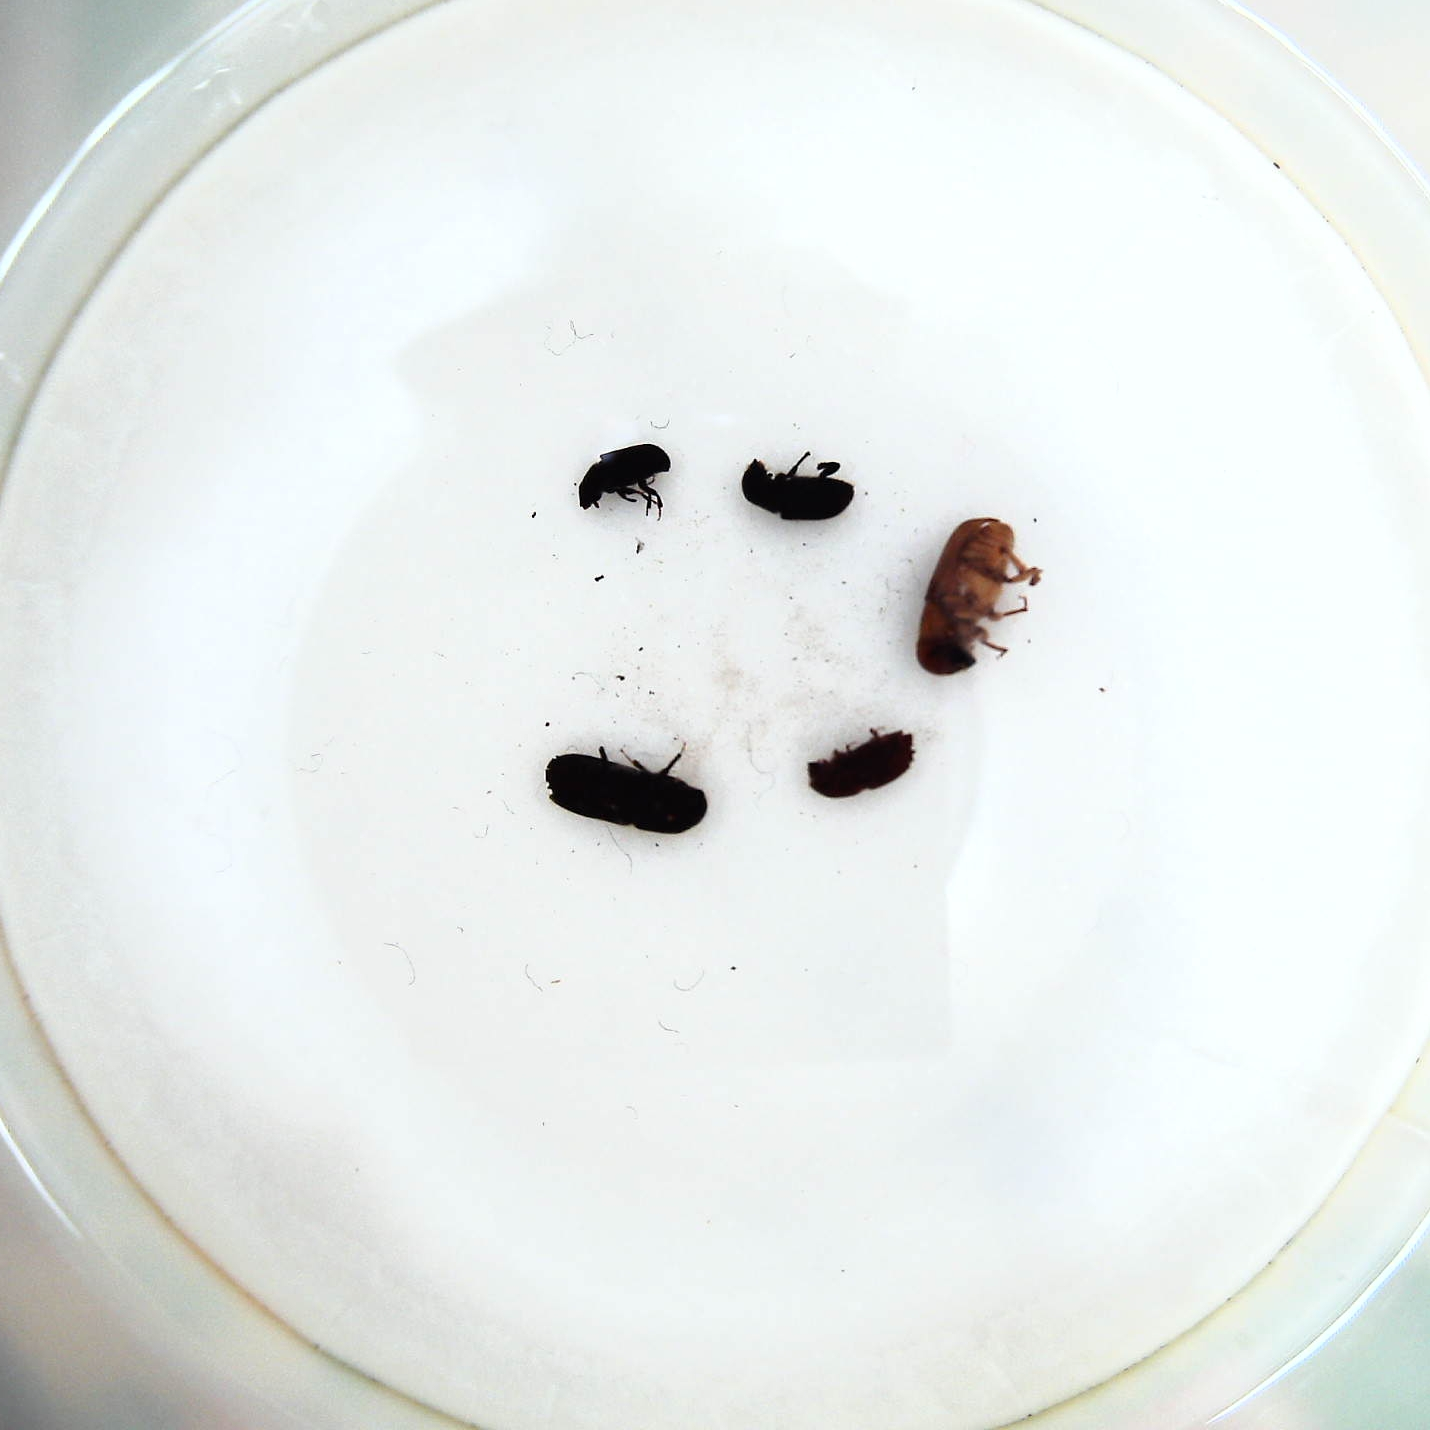Boerner: (543, 745, 707, 842)
Leconte: (915, 513, 1046, 680)
armandi: (737, 452, 856, 530)
coleoptera: (577, 445, 673, 516)
linnaeus: (805, 729, 921, 803)
